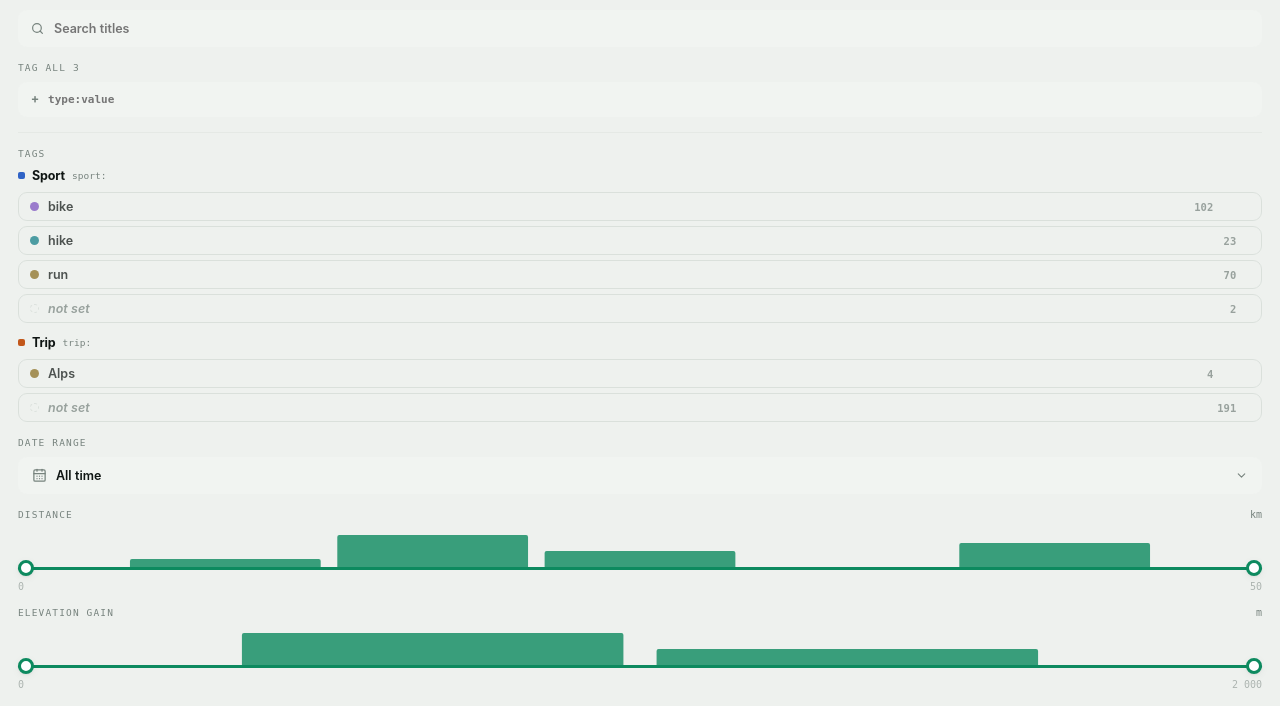
Test: the filter sidebar › suggests values in use, from the whole archive rather than the filter
Type "ru" into the field labelled "type:value". click: (648,100)
box: 46,92 -> 1249,107
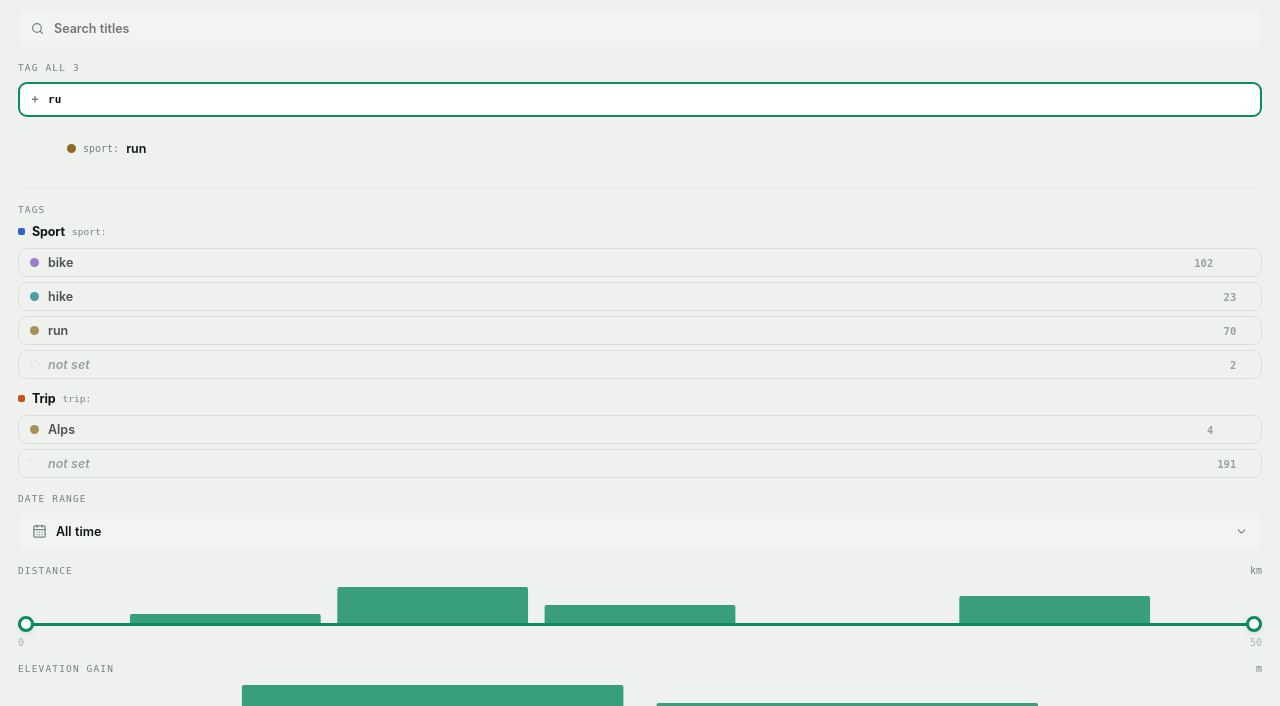
Expected: the button "sport: run" is shown, 58,136 -> 1262,160
